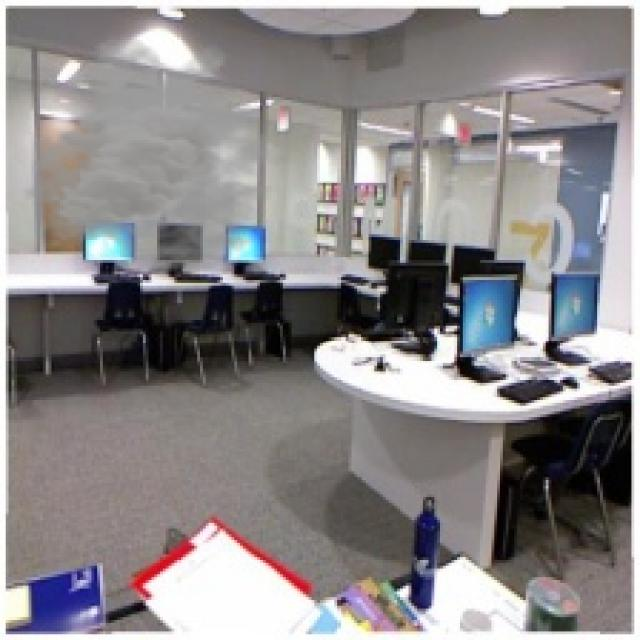smoke: (20, 34, 300, 277)
